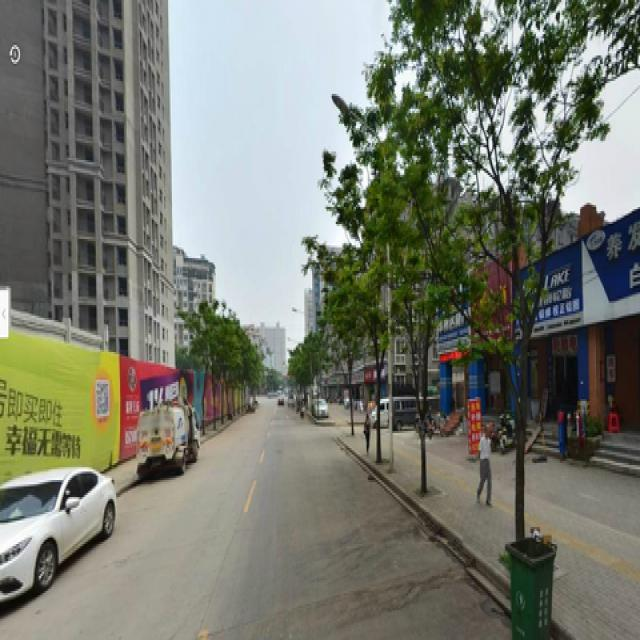koel: (395, 6, 612, 534)
